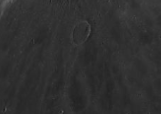crater: (54, 10, 120, 71)
